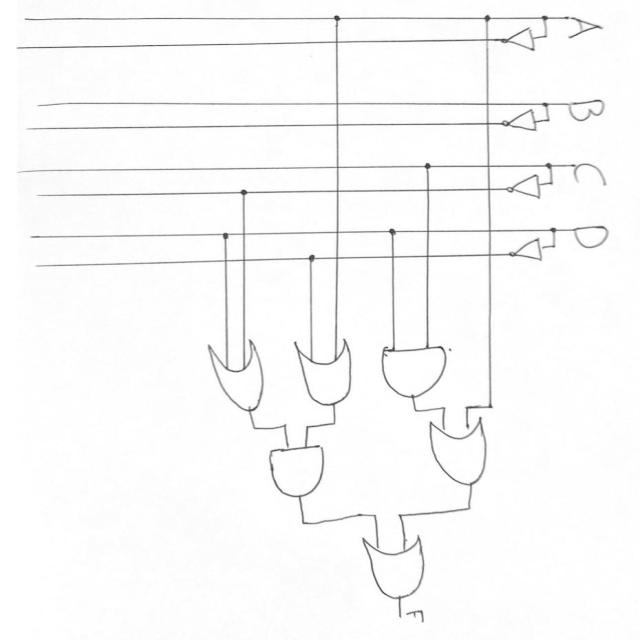AND: (256, 442, 350, 506), (377, 341, 453, 402)
NOT: (502, 236, 554, 272), (502, 172, 550, 207), (499, 25, 546, 60), (495, 110, 547, 140)
OR: (342, 534, 450, 604), (418, 417, 516, 494), (194, 339, 276, 418), (286, 340, 370, 414)
